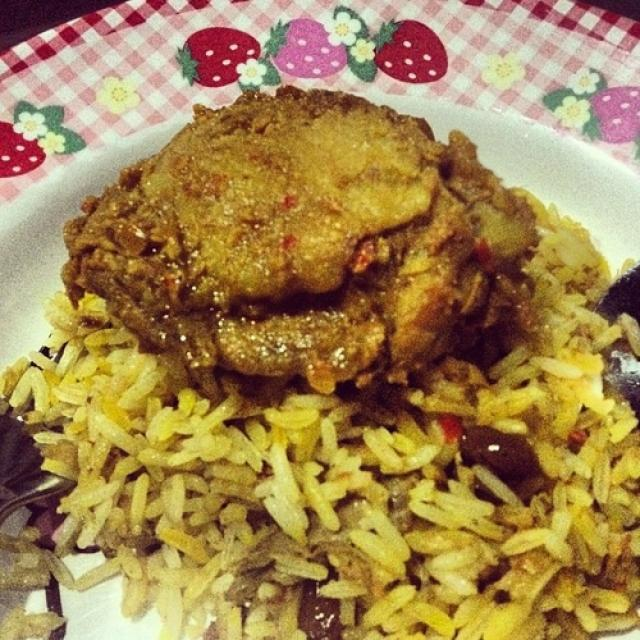米饭主食: (7, 26, 634, 626)
